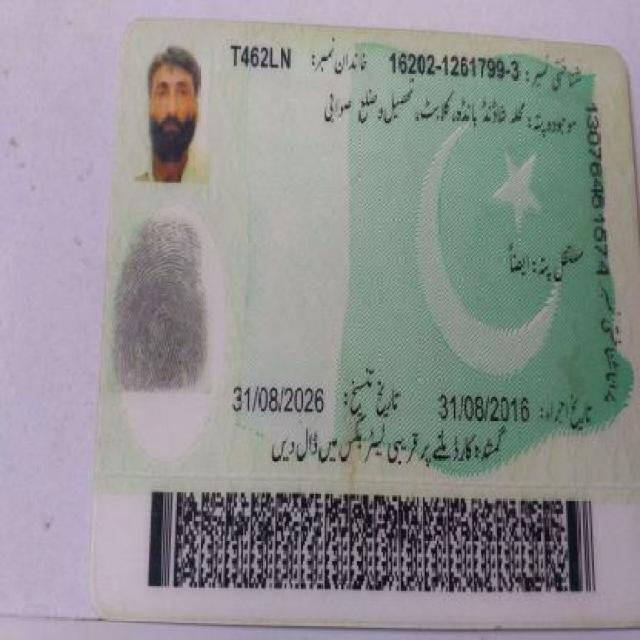Back: (103, 18, 631, 611)
